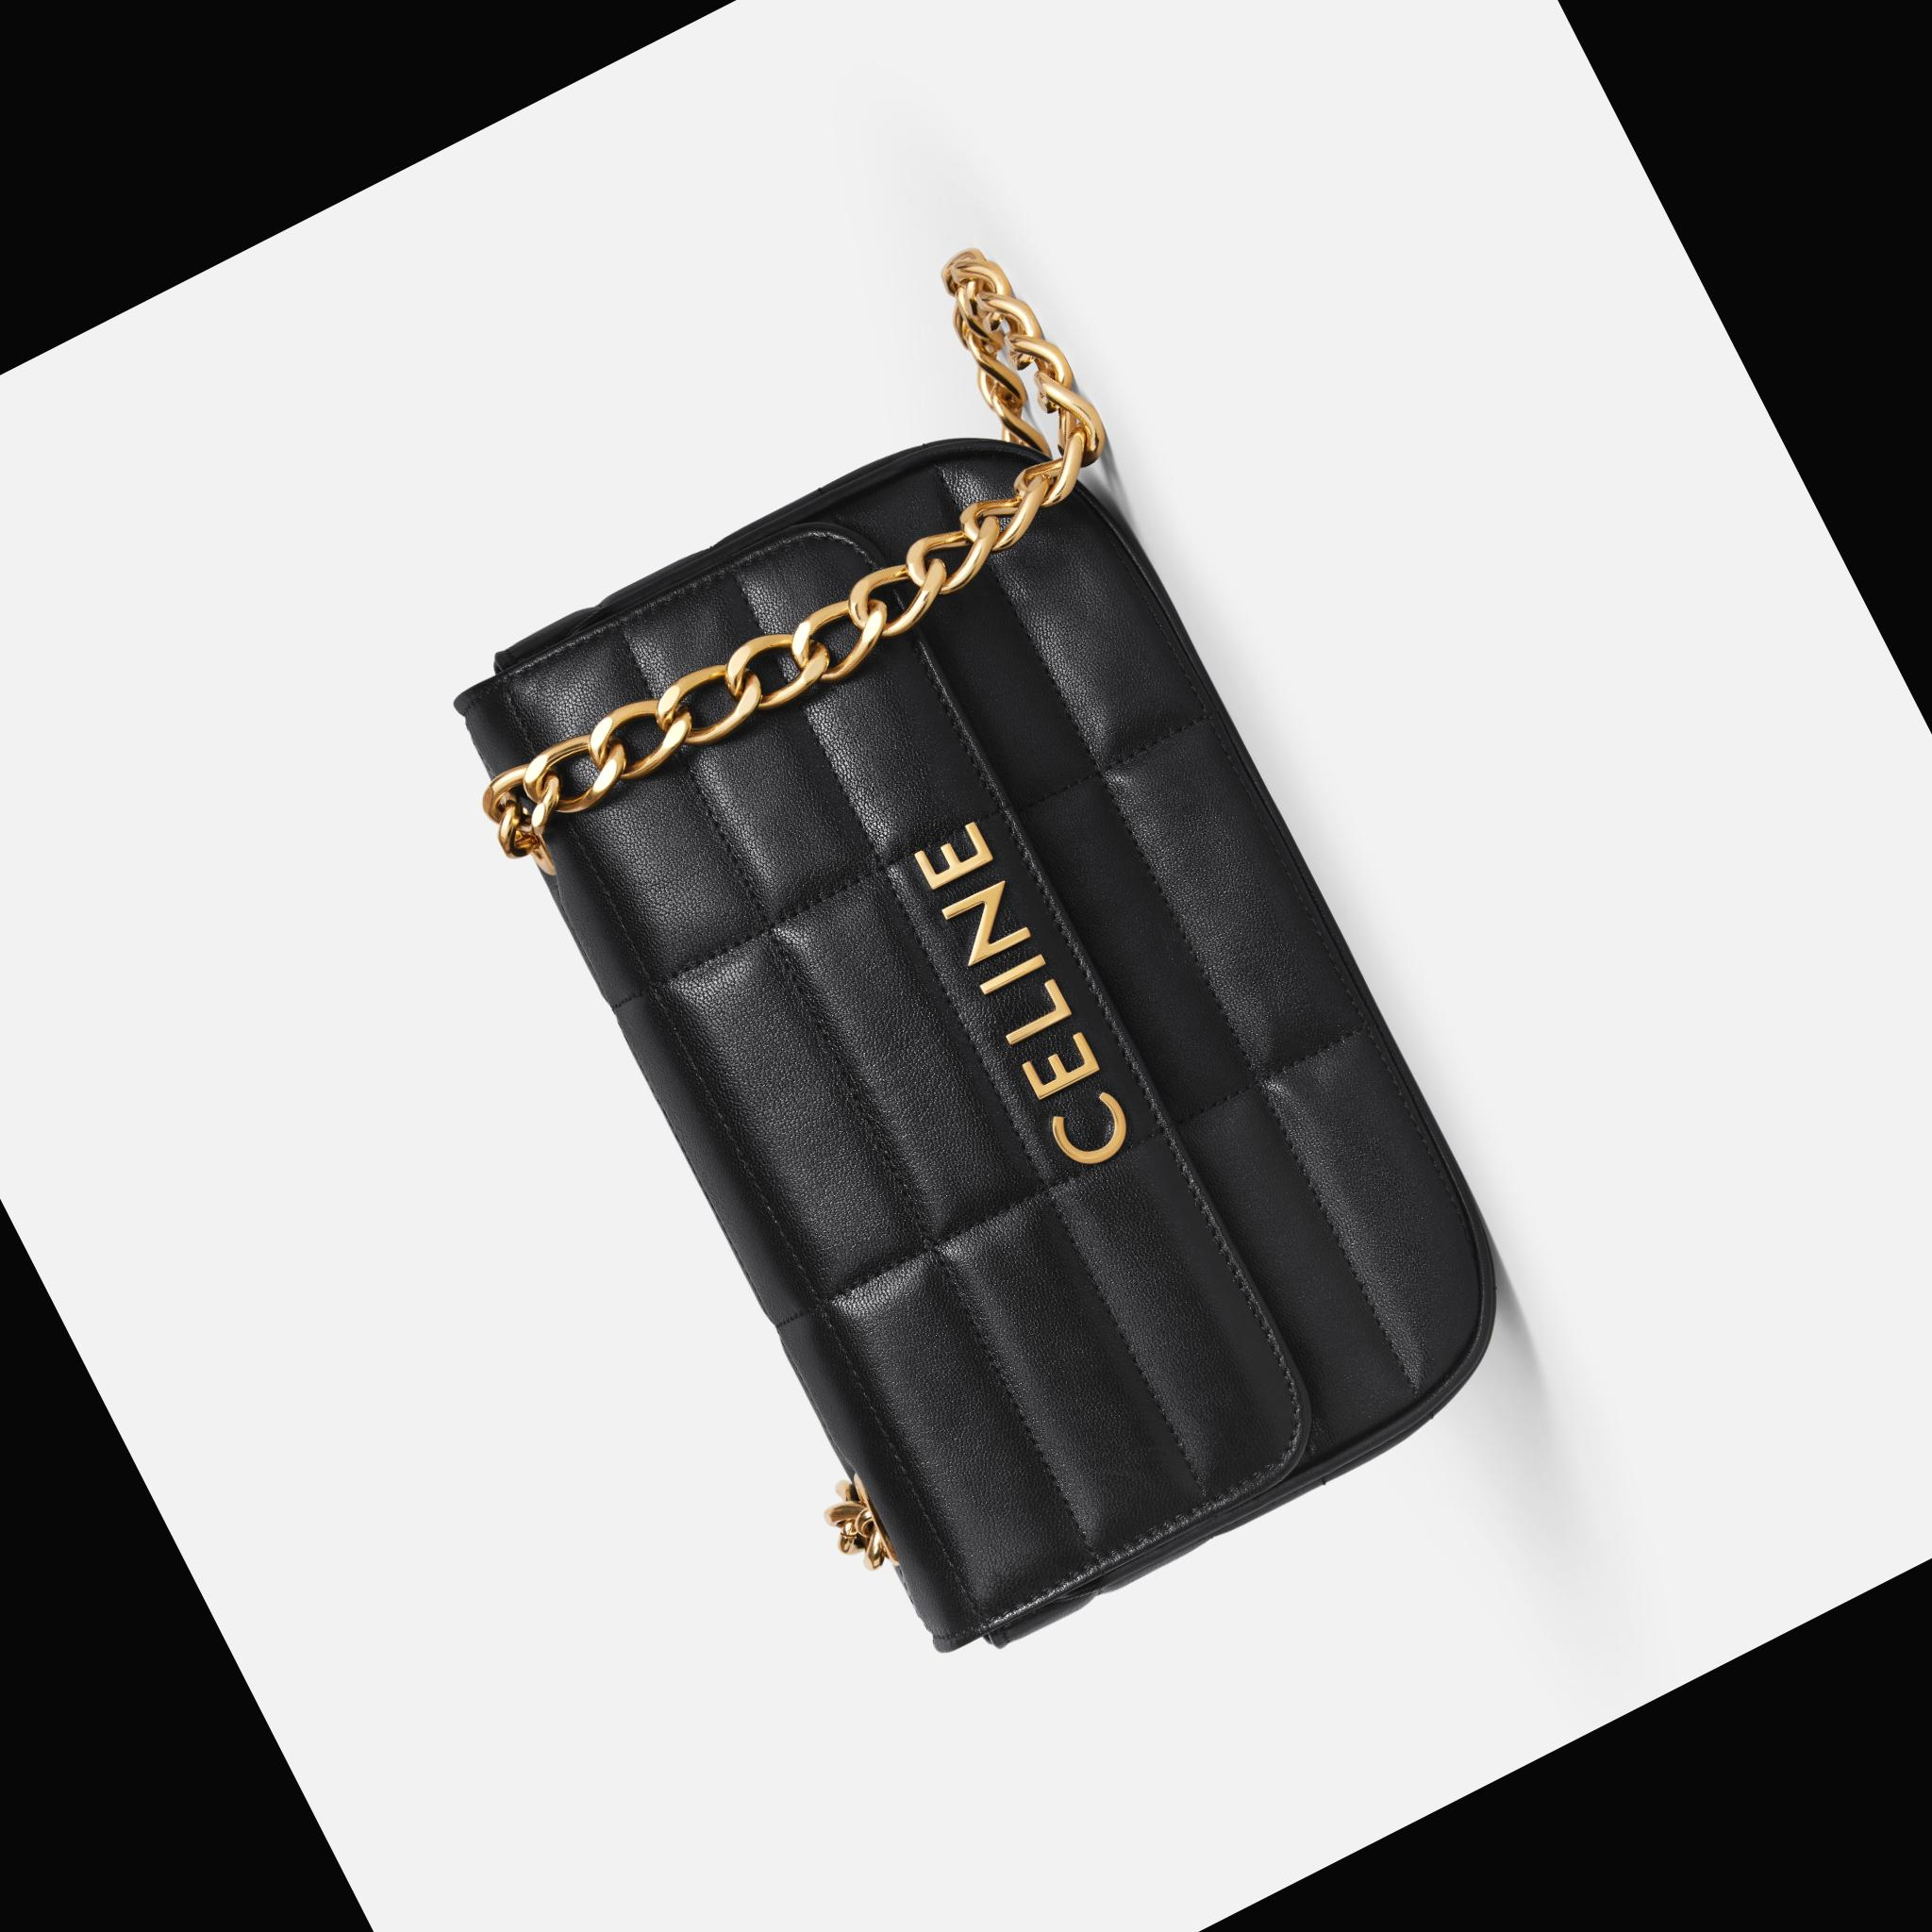CELINE: (906, 814, 1143, 1175)
